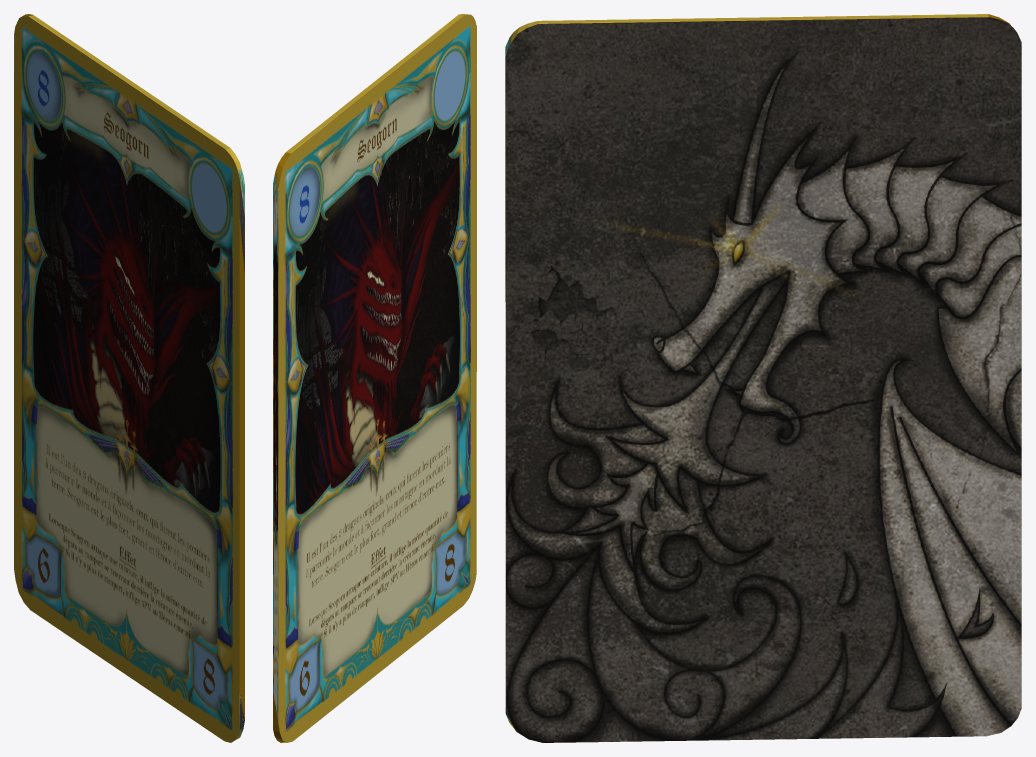
File: SEOGORNDRAK.fbx
The picture shows the model from 3 angles, left to right: view 1: azimuth 30°, elevation 25°; view 2: azimuth 150°, elevation 25°; view 3: azimuth 270°, elevation 25°; orthographic projection. The views are drawn at different scales.
Visible parts, largest first — view 1: SEOGORNDRAK:pPlane3; view 2: SEOGORNDRAK:pPlane3; view 3: SEOGORNDRAK:pPlane3.
Boxes of the visible parts, x1=… form: SEOGORNDRAK:pPlane3: x1=14, y1=14, x2=244, y2=742; SEOGORNDRAK:pPlane3: x1=273, y1=14, x2=476, y2=742; SEOGORNDRAK:pPlane3: x1=505, y1=14, x2=1021, y2=742.
Size of the model in its own units: 0.1625 by 4.99 by 3.24.
3 materials, 2 textured.
